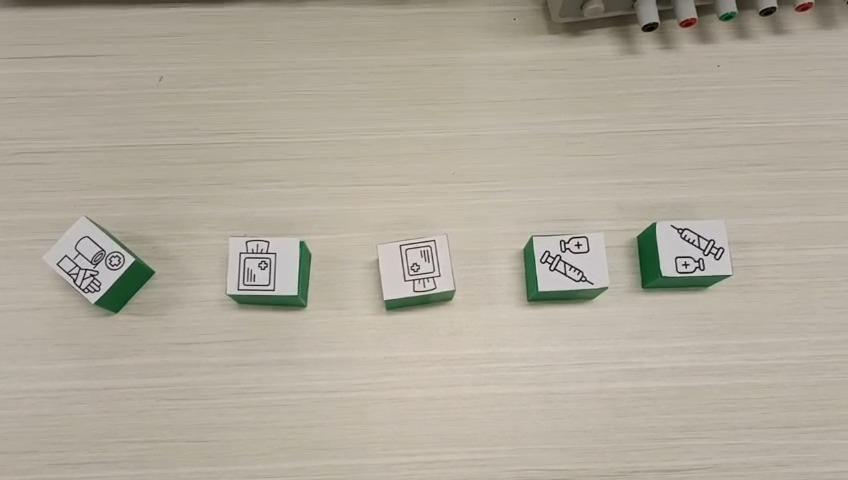Bandages: (41, 214, 155, 313)
Gauze: (376, 233, 457, 311), (224, 236, 312, 307)
antiseptic cream: (635, 217, 733, 288), (521, 232, 611, 301)
